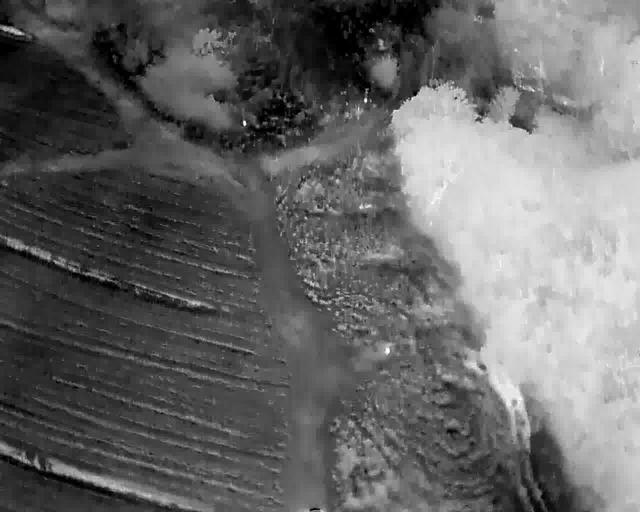car: (306, 321, 327, 366), (301, 392, 318, 430)
person: (295, 353, 301, 363), (377, 194, 382, 204)
